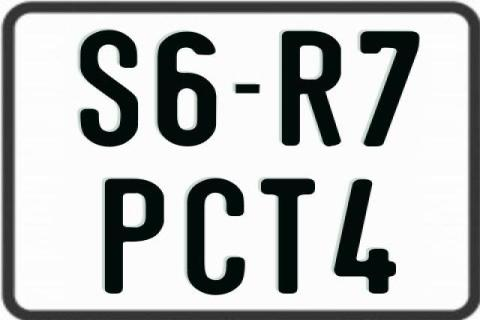0: (333, 177, 399, 297), (154, 31, 214, 148), (359, 29, 418, 144)
C: (187, 176, 249, 294)
P: (104, 176, 165, 291)
R: (279, 29, 338, 147)
S: (78, 29, 142, 147)
T: (260, 178, 320, 296)
